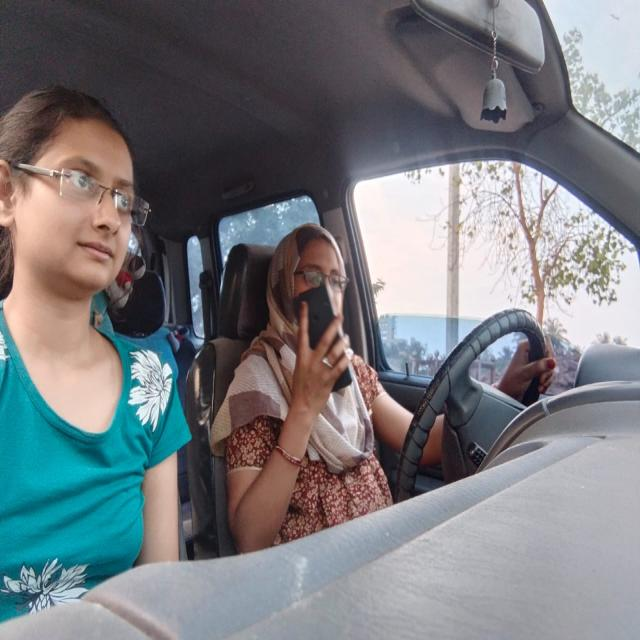mobile: (288, 277, 353, 393)
person: (0, 73, 157, 345), (267, 214, 373, 380)
